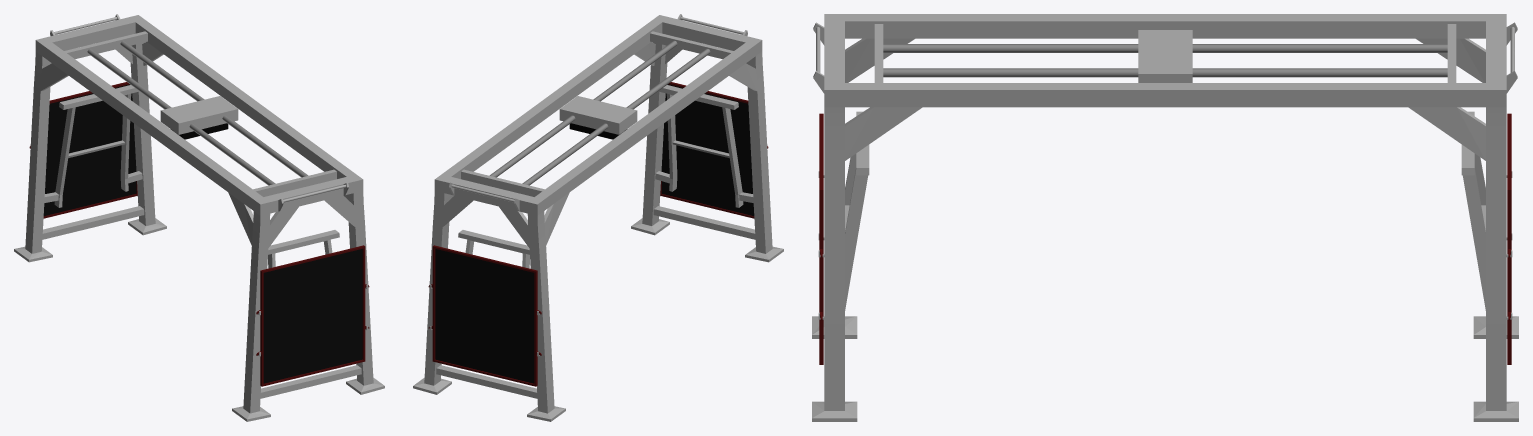
Rendered from SM_ProdLine_crane.FBX.
3 renders of one model, left to right at view 1: azimuth 30°, elevation 25°; view 2: azimuth 150°, elevation 25°; view 3: azimuth 270°, elevation 25°, orthographic. The views are drawn at different scales.
Parts seen in each view (by area): view 1: SM_ProdLine_crane_LOD0; view 2: SM_ProdLine_crane_LOD0; view 3: SM_ProdLine_crane_LOD0.
Part boxes in pixels (left/top/right/bottom): SM_ProdLine_crane_LOD0: left=14, top=14, right=384, bottom=421; SM_ProdLine_crane_LOD0: left=413, top=14, right=783, bottom=421; SM_ProdLine_crane_LOD0: left=812, top=14, right=1518, bottom=421.
Size of what is drawn, in the model's own units: 150 by 439 by 223.
